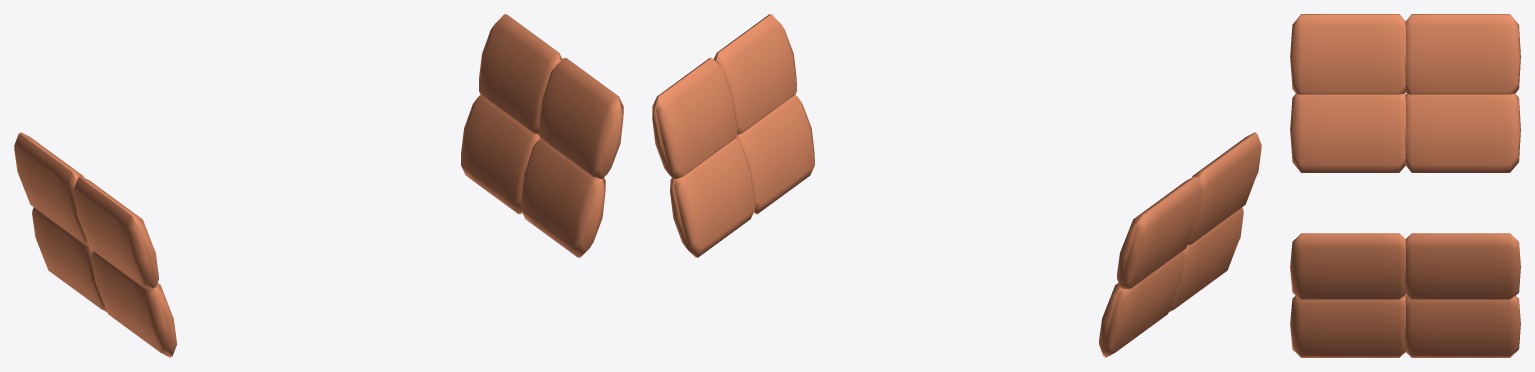
The model's file is colchoonetasSalto.fbx.
3 views of the same model, side by side, from view 1: azimuth 30°, elevation 25°; view 2: azimuth 150°, elevation 25°; view 3: azimuth 270°, elevation 25° (orthographic). The views are drawn at different scales.
Visible parts, largest first — view 1: pCube594, pCube595, pCube596, pCube597; view 2: pCube595, pCube594, pCube597, pCube596; view 3: pCube596, pCube597, pCube594, pCube595.
Boxes of the visible parts, box(x1,y1,x2,y2) form: pCube594: box(520, 57, 623, 257); pCube595: box(461, 14, 562, 214); pCube596: box(74, 176, 176, 357); pCube597: box(14, 132, 106, 311); pCube595: box(652, 57, 755, 257); pCube594: box(713, 14, 814, 214); pCube597: box(1099, 176, 1201, 357); pCube596: box(1169, 132, 1261, 311); pCube596: box(1290, 14, 1405, 172); pCube597: box(1405, 14, 1520, 172); pCube594: box(1290, 233, 1405, 357); pCube595: box(1405, 233, 1520, 357).
Bounding box in the file's own units: 15.02 × 4.41 × 6.52.
